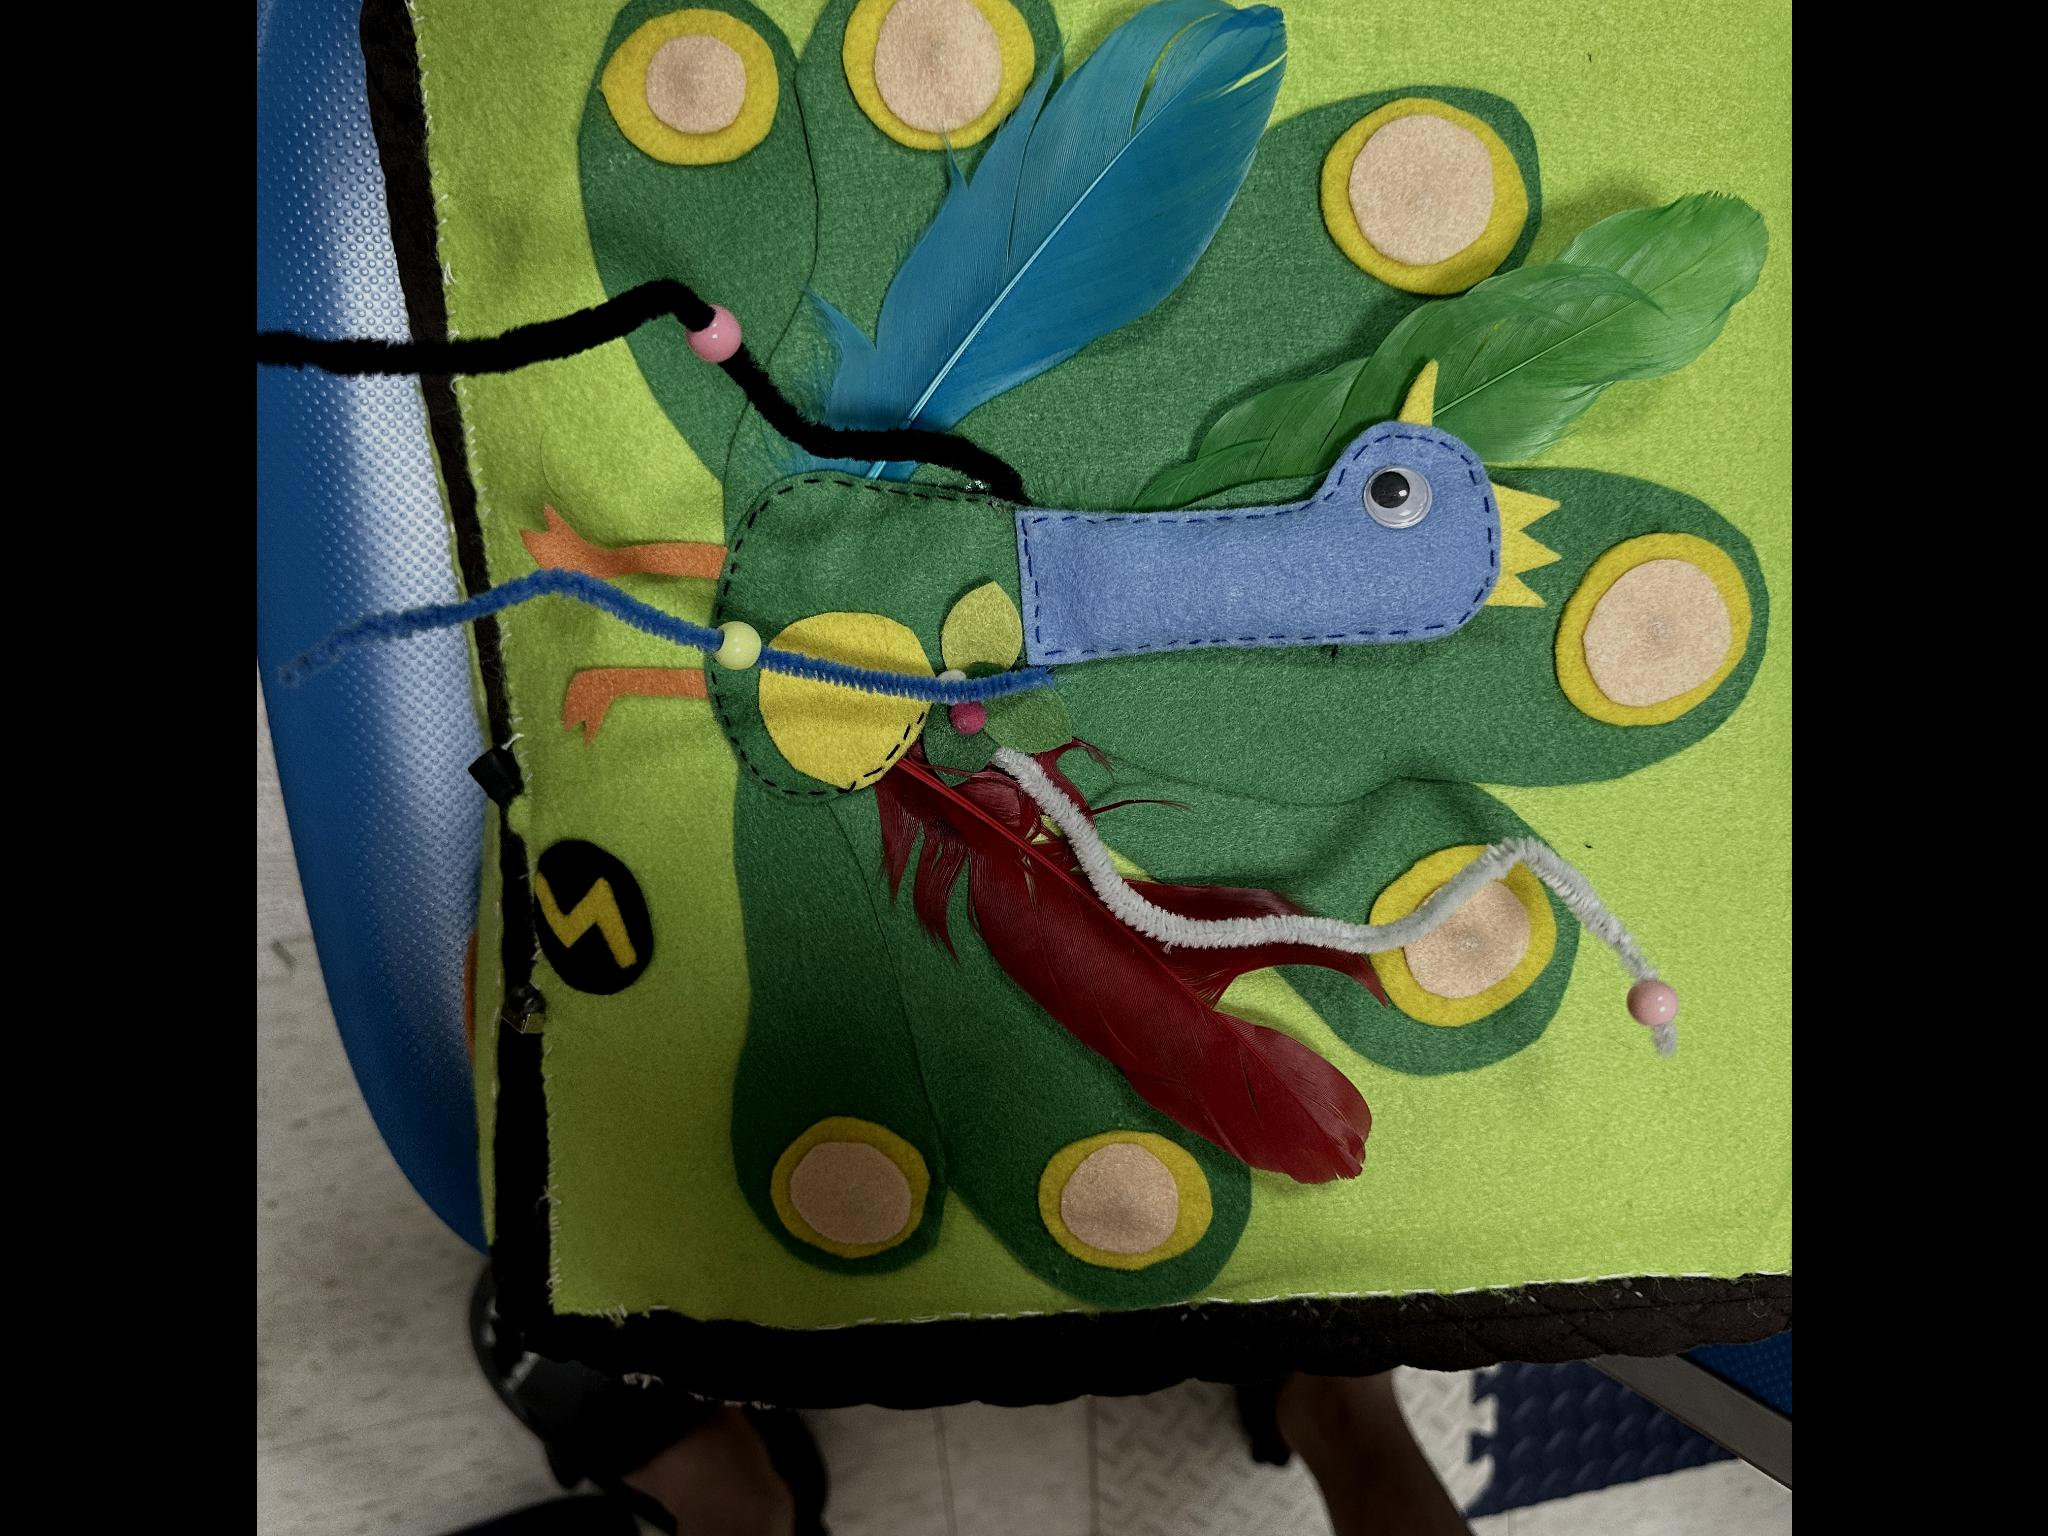bead: (676, 278, 758, 370), (690, 612, 780, 690), (1605, 969, 1707, 1035)
